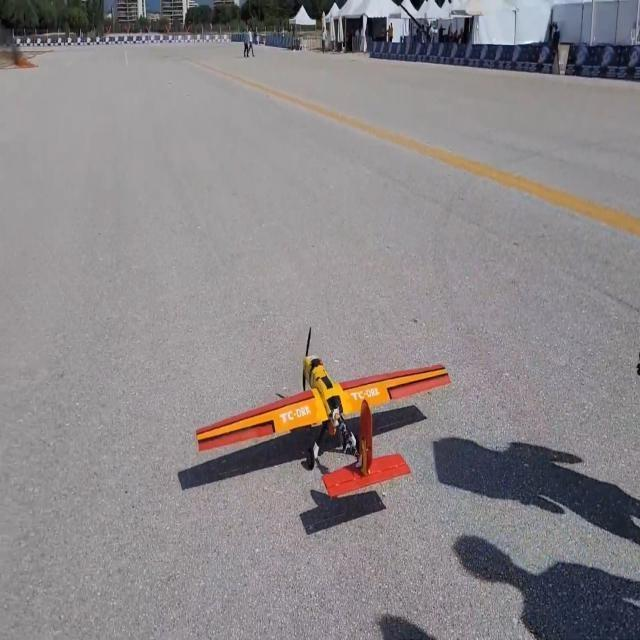Airplane: (190, 323, 463, 520)
